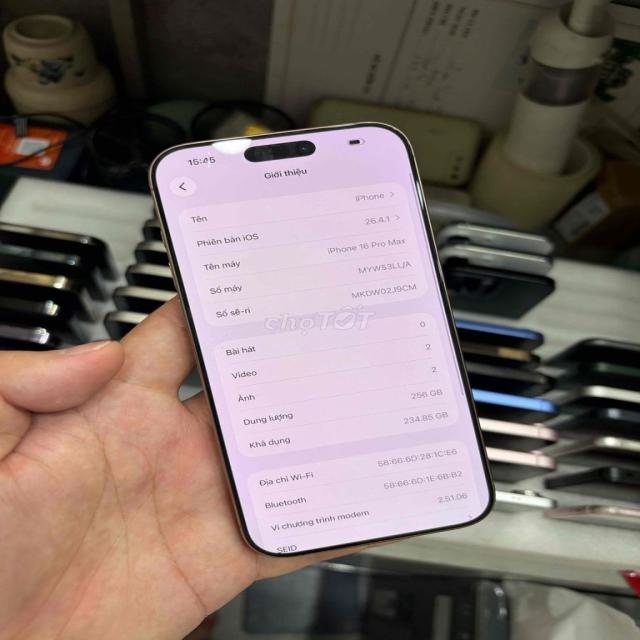gen_16: (152, 123, 492, 556)
